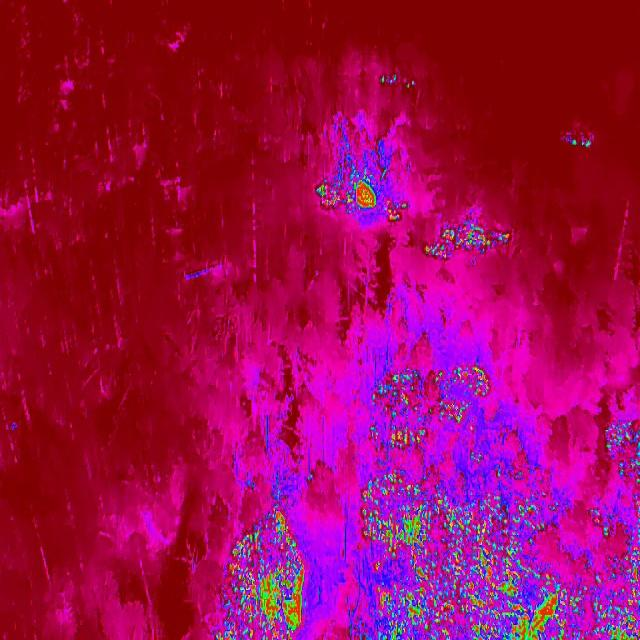fire: (354, 469, 578, 640), (211, 509, 308, 640), (368, 366, 491, 450), (422, 216, 515, 262), (590, 562, 640, 640), (604, 418, 640, 483), (376, 67, 418, 93), (588, 508, 620, 540), (560, 128, 596, 154), (628, 542, 640, 562), (637, 483, 640, 518)
